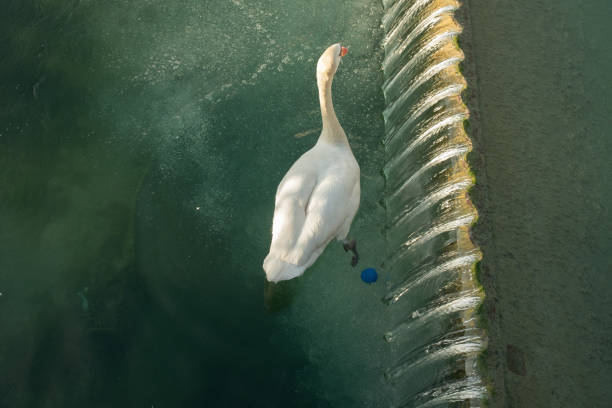goose: (259, 42, 363, 292)
